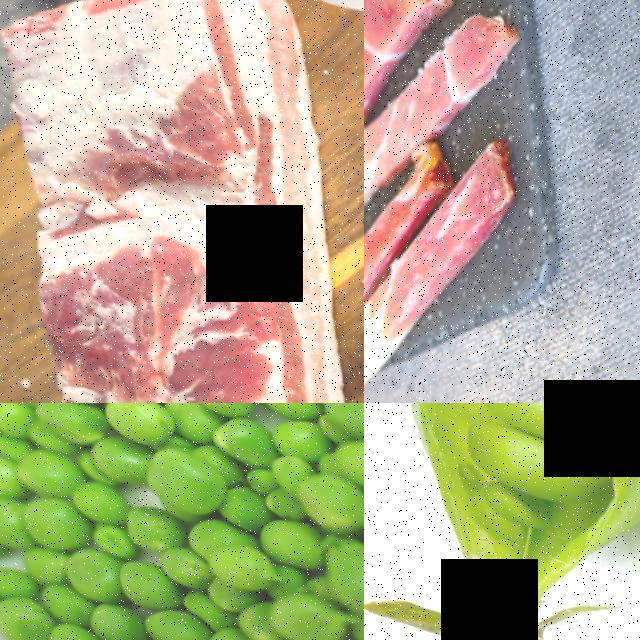peas: (0, 403, 364, 640), (400, 403, 640, 553)
pork belly: (0, 162, 364, 403), (0, 0, 349, 227), (364, 96, 519, 403), (377, 0, 522, 145)
